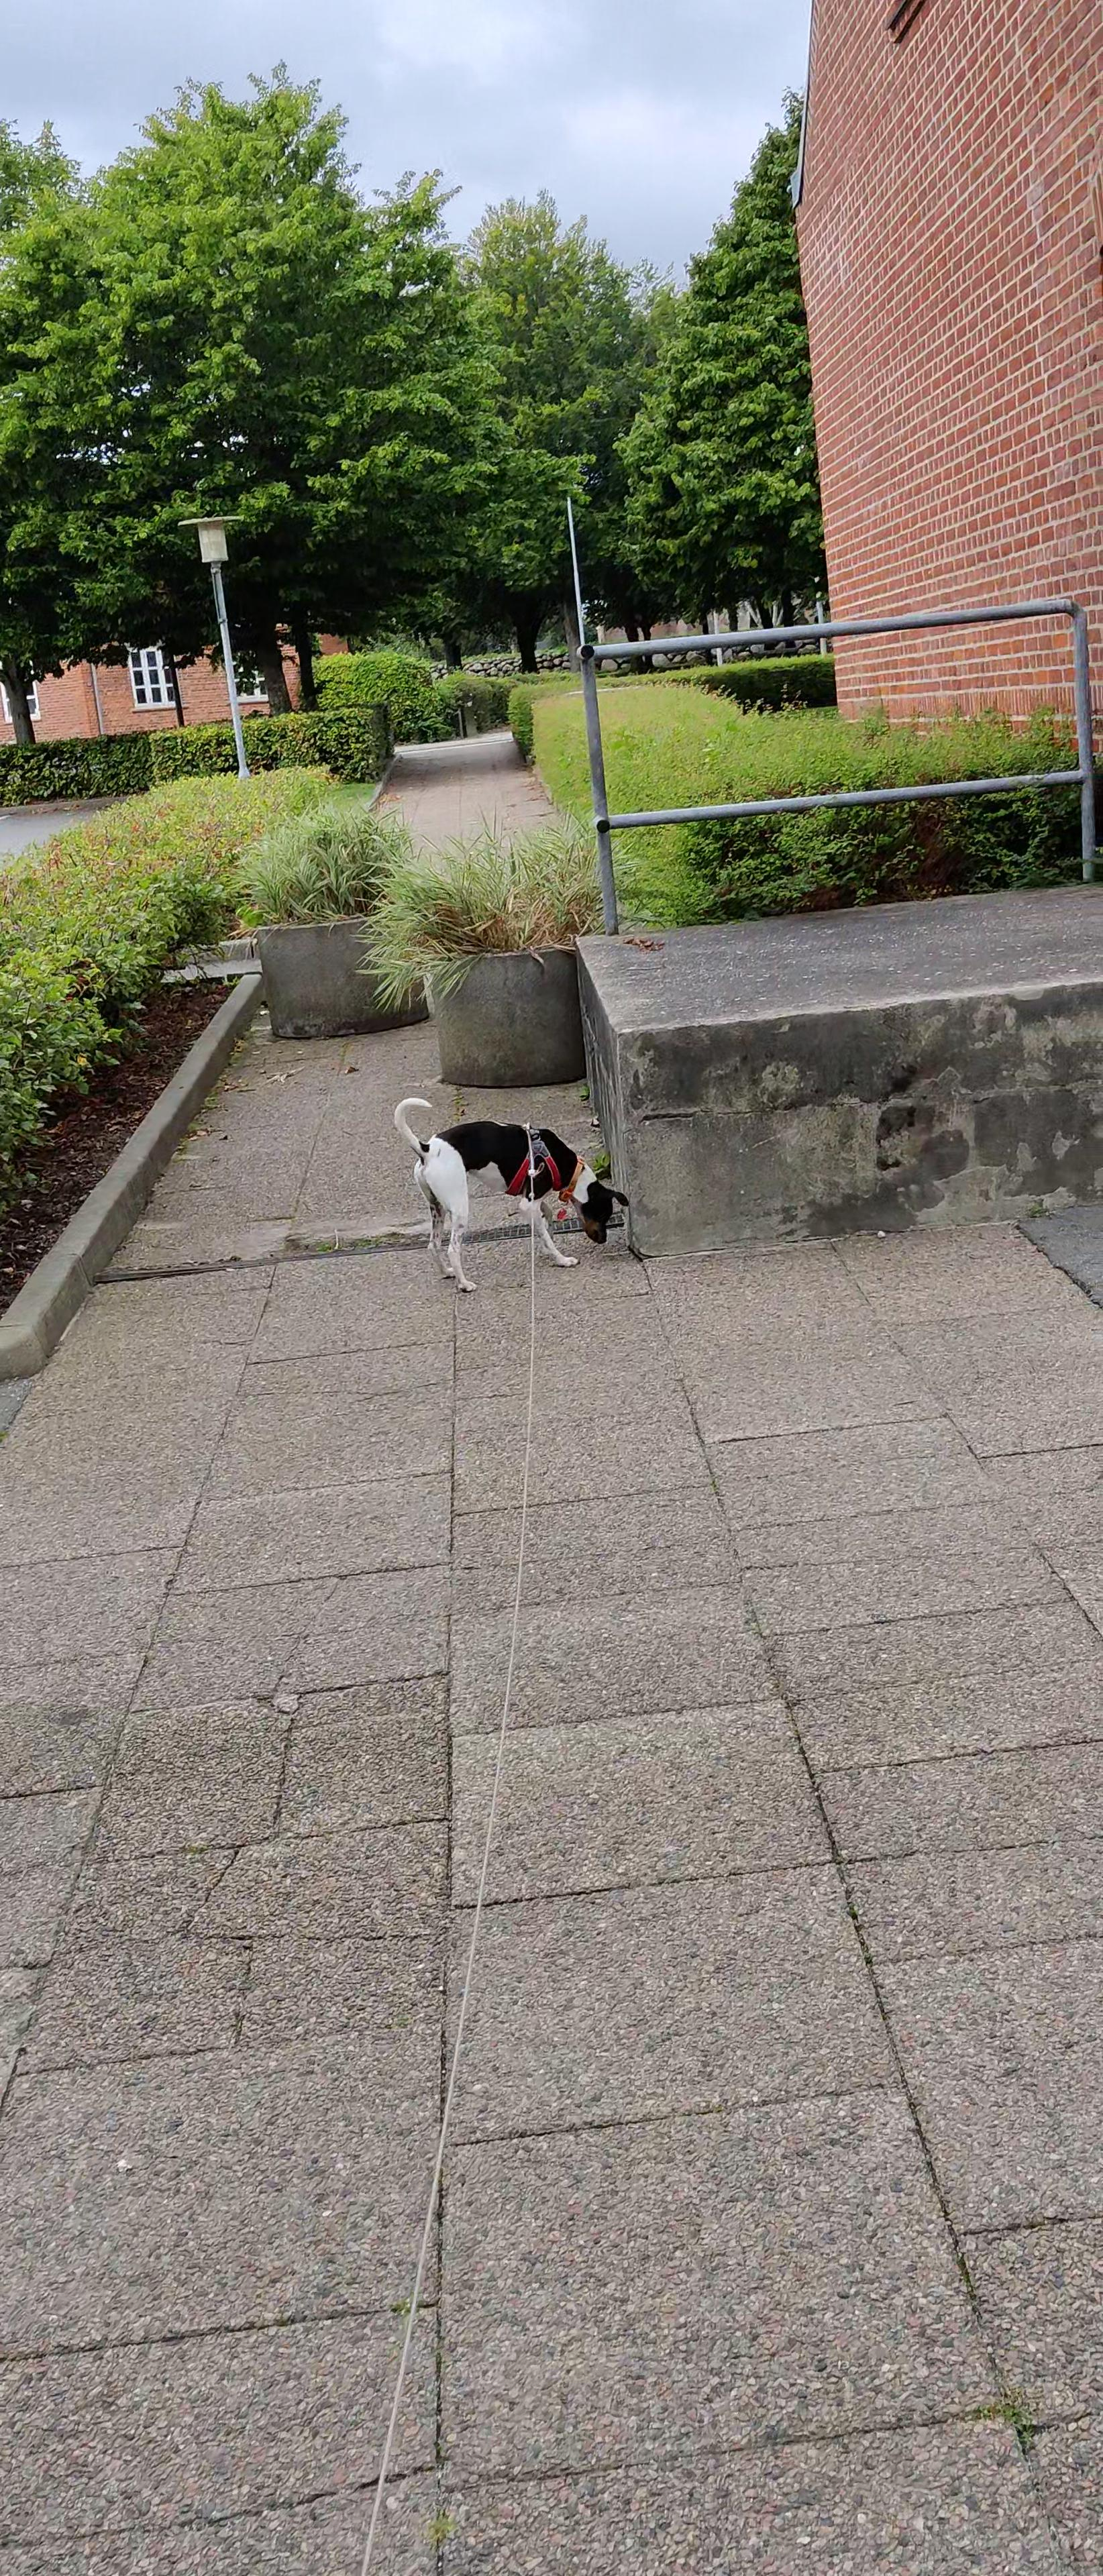Dog: (370, 1081, 643, 1301)
